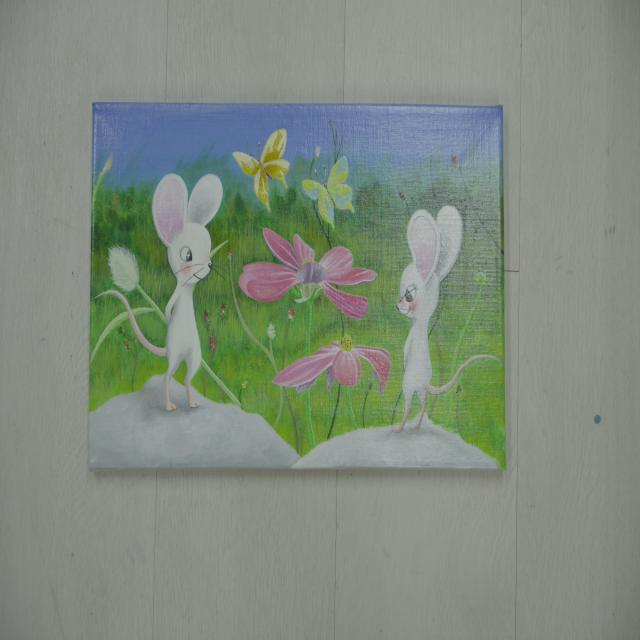painting: (89, 103, 505, 469)
